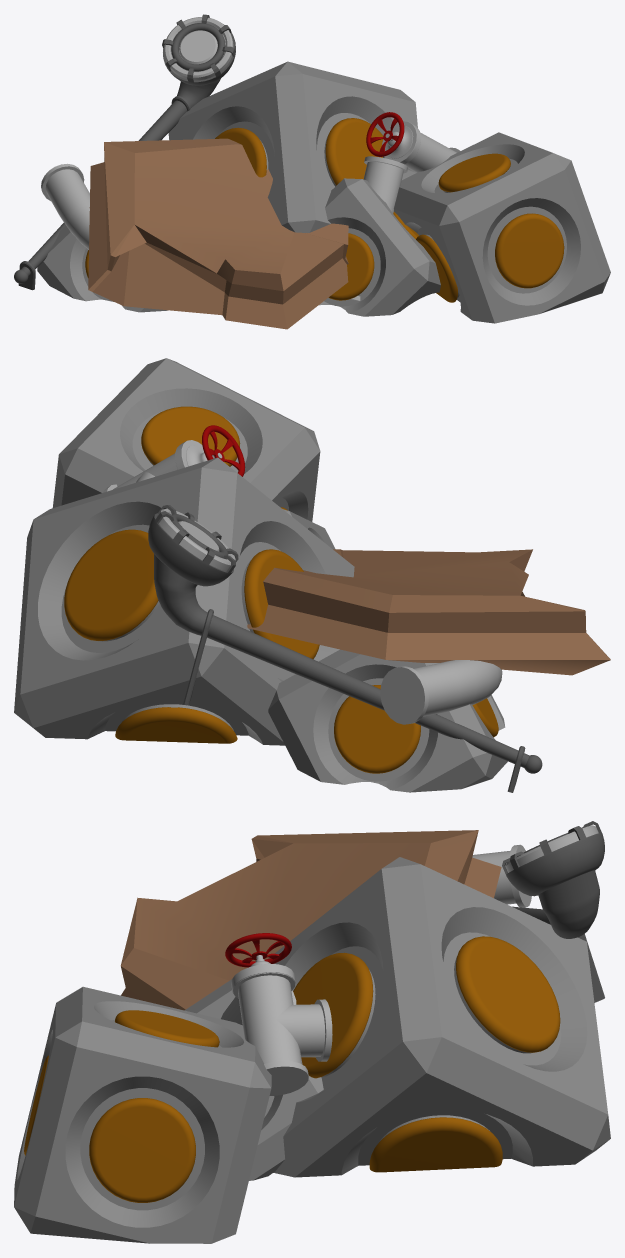
Rendered from Lost Robot Ruble2.fbx.
3 renders of one model, top to bottom at view 1: azimuth 30°, elevation 25°; view 2: azimuth 150°, elevation 25°; view 3: azimuth 270°, elevation 25°, orthographic. The views are drawn at different scales.
Parts seen in each view (by area): view 1: pCube5; view 2: pCube5; view 3: pCube5.
Boxes of the visible parts, bbox=[...] form: pCube5: bbox=[14, 14, 610, 329]; pCube5: bbox=[14, 358, 610, 792]; pCube5: bbox=[14, 821, 610, 1243].
Bounding box in the file's own units: 12.82 × 5.06 × 10.22.
